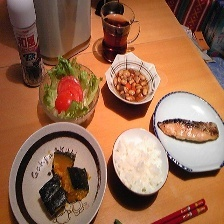rice: (113, 131, 170, 195)
